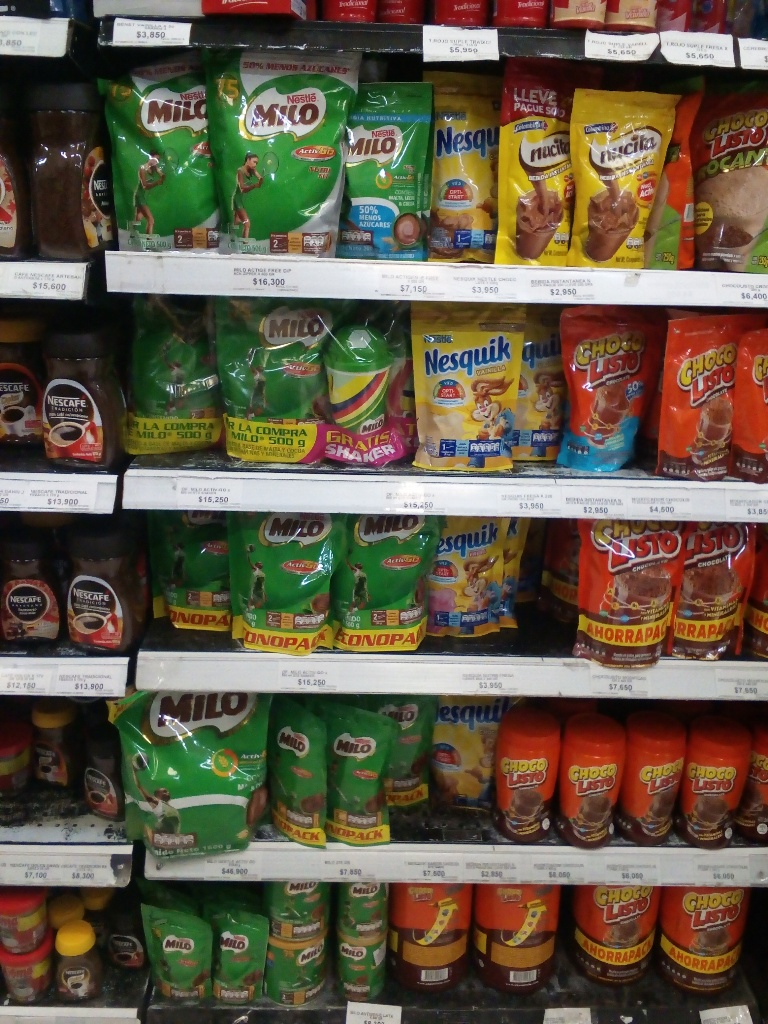COL0170102DYP25000: (651, 76, 714, 276)
COL0170103DYP20000: (661, 310, 756, 486)
COL0170103DYP40000: (571, 511, 674, 670)
COL0170103TRR00100: (389, 876, 470, 990)
COL0170103TRR30000: (493, 707, 558, 845)
COL0170104DYP20000: (551, 302, 661, 480)
COL0170203DYP10000: (140, 900, 210, 1003)
COL0170203DYP25000: (315, 700, 408, 846)
COL0170203DYP50000: (343, 511, 436, 655)
COL0170203LAT20000: (336, 877, 392, 940)
COL0170203LAT40000: (262, 935, 330, 1006)
COL0170205DYP20000: (338, 84, 437, 261)
COL0170205DYP50000: (94, 52, 225, 255)
COL0170303DYP20000: (420, 690, 499, 829)
COL0170305DYP20000: (428, 508, 526, 643)
COL0170306DYP20000: (406, 300, 526, 477)
